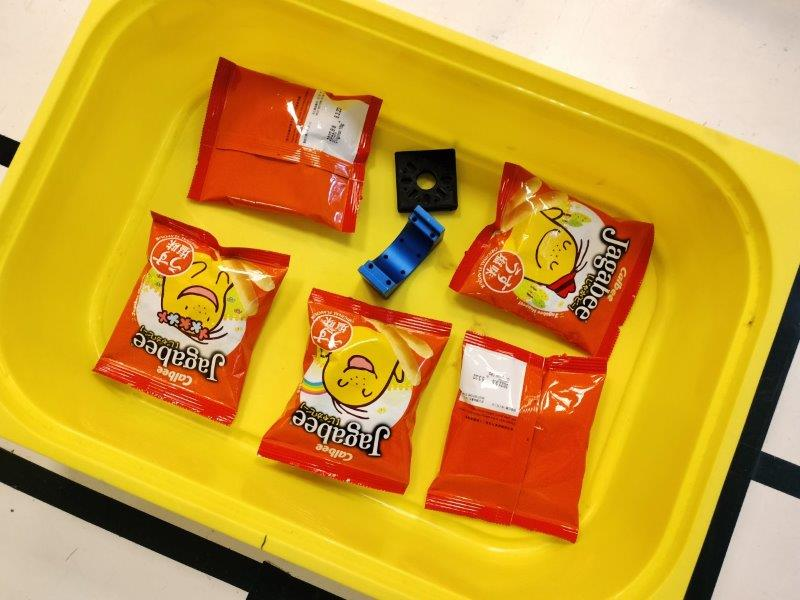Jagabee: (92, 212, 290, 425), (451, 163, 656, 361), (257, 289, 452, 493), (424, 330, 607, 546), (187, 57, 382, 232)
